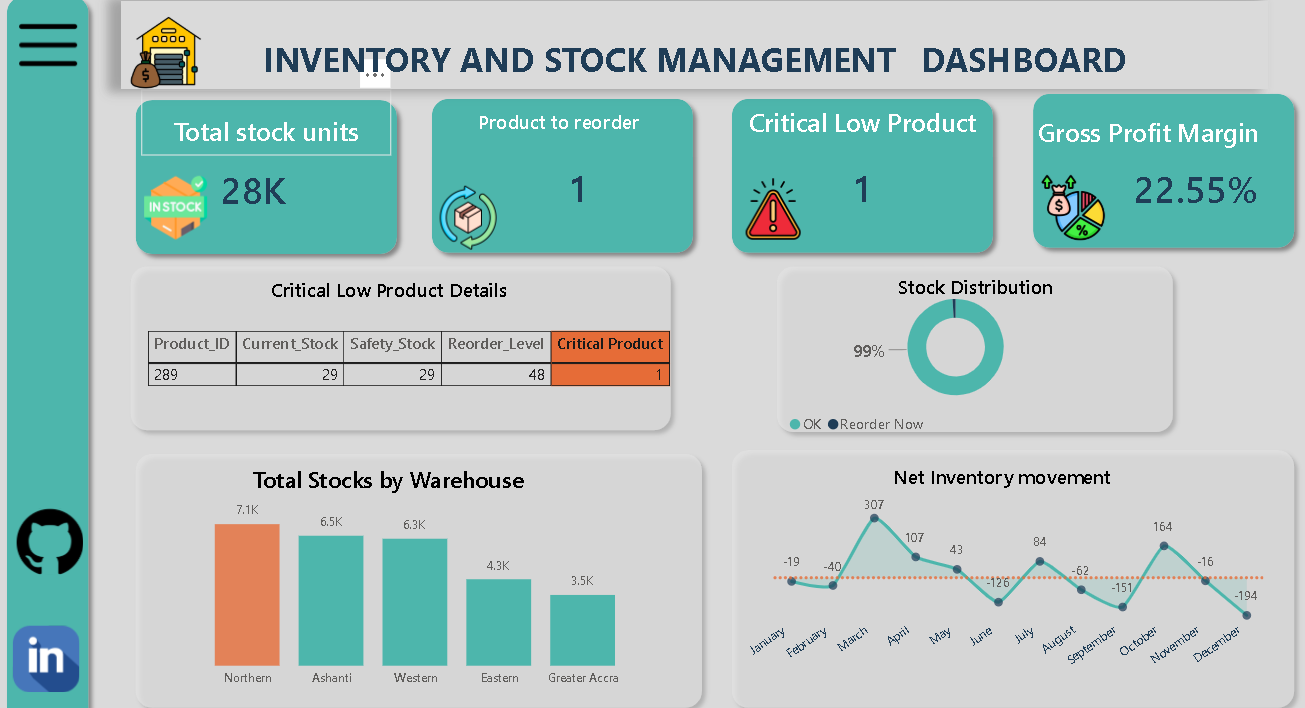

What the dashboard file says about the page in this screenshot:
{"tool":"powerbi","page":{"name":"Inventory  And Stock Management","canvas":[1280,720],"ordinal":2},"visuals":[{"type":"shape","title":"Page navigation","box":[105.6,12.8,220.8,706.8],"z":0,"group":"g3"},{"type":"shape","box":[759.9,260,400.2,178],"z":0},{"type":"actionButton","title":"Logistics","box":[108.2,490,219.3,48.7],"z":0,"group":"g1"},{"type":"actionButton","title":"githud","box":[31.1,498.6,72.4,73.9],"z":0,"group":"g2"},{"type":"actionButton","title":"close button","box":[278.5,8.7,53.4,77],"z":1000,"group":"g3"},{"type":"shape","box":[136.3,260.6,539.3,176.1],"z":1000},{"type":"actionButton","title":"Supplier","box":[108.2,409.6,219.3,48.7],"z":1000,"group":"g1"},{"type":"actionButton","title":"LinkIn","box":[27.5,611.3,72.4,73.9],"z":1000,"group":"g2"},{"type":"actionButton","title":"Menu","box":[33,14.5,64,82.4],"z":2000,"group":"g2"},{"type":"group","id":"g1","title":"pages","box":[107.4,168.6,220.8,370.1],"z":2000,"group":"g3"},{"type":"actionButton","title":"Inventory","box":[108.2,329.3,219.3,48.7],"z":2000,"group":"g1"},{"type":"shape","box":[141.2,441.6,564.6,263],"z":2000},{"type":"actionButton","title":"Customer","box":[108.2,248.9,219.3,48.7],"z":3000,"group":"g1"},{"type":"shape","box":[717,437.9,560.7,266.7],"z":3000},{"type":"shape","box":[717,98.9,270,166.5],"z":4000},{"type":"actionButton","title":"Sales","box":[107.4,168.6,220.8,48.7],"z":4000,"group":"g1"},{"type":"shape","box":[141.2,100.1,270.2,166.5],"z":5000},{"type":"shape","box":[426.7,98.9,270,166.5],"z":6000},{"type":"textbox","box":[427.1,94.1,263,63.9],"z":7000},{"type":"textbox","box":[155.6,98.9,241.3,63.9],"z":8000},{"type":"card","fields":{"Values":["Stock_Levels.Total Stock Units"]},"box":[189.4,160.5,149.6,71.2],"z":9000},{"type":"tableEx","fields":{"Values":["Stock_Levels.Product_ID","Stock_Levels.Current_Stock","Stock_Levels.Safety_Stock","Stock_Levels.Reorder_Level","Stock_Levels.Critical Low Products"]},"box":[155.3,326.9,525.1,125],"z":10000},{"type":"columnChart","fields":{"Y":["Stock_Levels.Total Stock Units"],"Category":["Warehouses.Warehouse_Location"]},"box":[189.4,481.4,463.3,203.9],"z":11000},{"type":"textbox","box":[136.3,13.3,1107.5,85.7],"z":12000},{"type":"card","fields":{"Values":["Stock_Levels.Products To Reorder"]},"box":[503.1,158,149.6,71.2],"z":13000},{"type":"shape","box":[1007.4,94.1,270,166.5],"z":14000},{"type":"card","fields":{"Values":["Stock_Levels.Critical Low Products"]},"box":[776.9,158,149.6,71.2],"z":15000},{"type":"textbox","box":[727.5,108.6,248.5,49.5],"z":16000},{"type":"card","fields":{"Values":["Sales.Gross Profit Margin"]},"box":[1099.1,159.3,149.6,71.2],"z":17000},{"type":"textbox","box":[1007.4,100.1,241.3,63.9],"z":18000},{"type":"image","box":[156.8,182.2,63.9,61.5],"z":19000},{"type":"textbox","box":[824,436.7,324.5,60.3],"z":20000},{"type":"textbox","box":[148.4,436.7,491,60.3],"z":21000},{"type":"image","box":[100.1,26.5,158,73.6],"z":22000},{"type":"lineChart","fields":{"Category":["Dim_Date.Month Name"],"Y":["Inventory.Net Inventory Movement"]},"box":[733.5,481.4,510.3,195.4],"z":23000},{"type":"donutChart","fields":{"Category":["Stock_Levels.Stock Status"],"Y":["Stock_Levels.Products Count"]},"box":[776.3,284,332,157.8],"z":24000},{"type":"textbox","box":[232.3,256.3,324.4,60.6],"z":25000},{"type":"textbox","box":[799.1,253.7,324.4,60.6],"z":26000},{"type":"image","box":[733.5,183.4,63.9,61.5],"z":27000},{"type":"image","box":[439.1,191.8,63.9,61.5],"z":28000},{"type":"image","box":[1023.1,181,63.9,63.9],"z":29000},{"type":"shape","title":"Container","box":[17.4,0,96.9,720.1],"z":30000},{"type":"group","id":"g2","title":"Menu bar","box":[27.5,14.5,76.6,671],"z":36000},{"type":"group","id":"g3","title":"Menu objects","box":[105.6,8.7,227,711.4],"z":37000}]}

Visuals, with their boxes on the page's 1280x720 design canvas (x1, y1, x2, y2). These are canvas units, not pixel positions in the 1305x708 screenshot, which may show the page scaled, cropped or inside an application window:
"Page navigation" shape: rect(106, 13, 326, 720)
shape: rect(760, 260, 1160, 438)
"Logistics" actionButton: rect(108, 490, 328, 539)
"githud" actionButton: rect(31, 499, 104, 572)
"close button" actionButton: rect(278, 9, 332, 86)
shape: rect(136, 261, 676, 437)
"Supplier" actionButton: rect(108, 410, 328, 458)
"LinkIn" actionButton: rect(28, 611, 100, 685)
"Menu" actionButton: rect(33, 14, 97, 97)
"pages" group: rect(107, 169, 328, 539)
"Inventory" actionButton: rect(108, 329, 328, 378)
shape: rect(141, 442, 706, 705)
"Customer" actionButton: rect(108, 249, 328, 298)
shape: rect(717, 438, 1278, 705)
shape: rect(717, 99, 987, 265)
"Sales" actionButton: rect(107, 169, 328, 217)
shape: rect(141, 100, 411, 267)
shape: rect(427, 99, 697, 265)
textbox: rect(427, 94, 690, 158)
textbox: rect(156, 99, 397, 163)
card - Stock_Levels.Total Stock Units: rect(189, 160, 339, 232)
tableEx - Stock_Levels.Product_ID x Stock_Levels.Current_Stock: rect(155, 327, 680, 452)
columnChart - Stock_Levels.Total Stock Units x Warehouses.Warehouse_Location: rect(189, 481, 653, 685)
textbox: rect(136, 13, 1244, 99)
card - Stock_Levels.Products To Reorder: rect(503, 158, 653, 229)
shape: rect(1007, 94, 1277, 261)
card - Stock_Levels.Critical Low Products: rect(777, 158, 926, 229)
textbox: rect(728, 109, 976, 158)
card - Sales.Gross Profit Margin: rect(1099, 159, 1249, 230)
textbox: rect(1007, 100, 1249, 164)
image: rect(157, 182, 221, 244)
textbox: rect(824, 437, 1148, 497)
textbox: rect(148, 437, 639, 497)
image: rect(100, 26, 258, 100)
lineChart - Dim_Date.Month Name x Inventory.Net Inventory Movement: rect(734, 481, 1244, 677)
donutChart - Stock_Levels.Stock Status x Stock_Levels.Products Count: rect(776, 284, 1108, 442)
textbox: rect(232, 256, 557, 317)
textbox: rect(799, 254, 1124, 314)
image: rect(734, 183, 797, 245)
image: rect(439, 192, 503, 253)
image: rect(1023, 181, 1087, 245)
"Container" shape: rect(17, 0, 114, 720)
"Menu bar" group: rect(28, 14, 104, 686)
"Menu objects" group: rect(106, 9, 333, 720)
